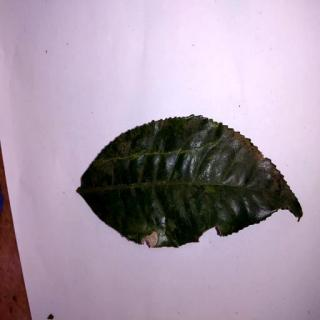Anthracnose: (79, 114, 304, 251)
